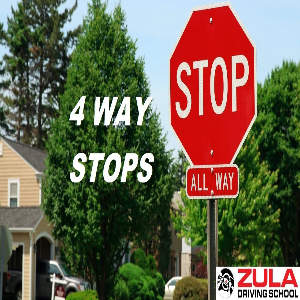STOP_SIGN: (168, 1, 257, 167)
